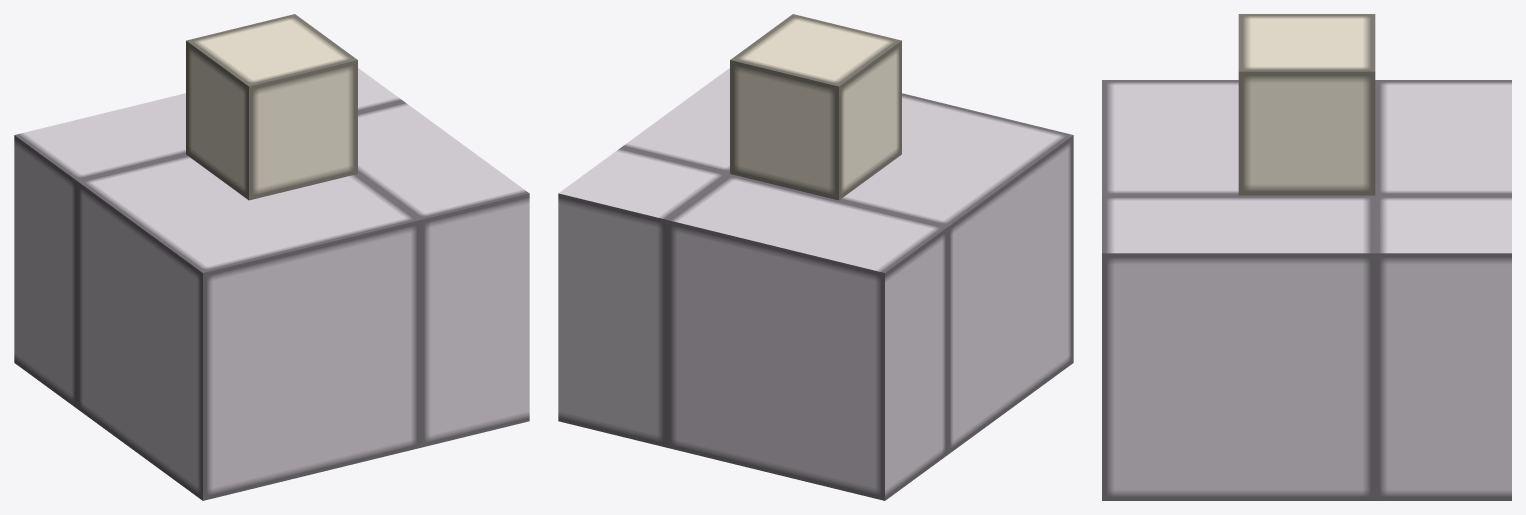
File: napkin_cup.glb
The picture shows the model from 3 angles, left to right: view 1: azimuth 30°, elevation 25°; view 2: azimuth 150°, elevation 25°; view 3: azimuth 270°, elevation 25°; orthographic projection. The views are drawn at different scales.
Visible parts, largest first — view 1: napkin_cup; view 2: napkin_cup; view 3: napkin_cup.
Boxes of the visible parts, bbox=[...] form: napkin_cup: bbox=[14, 14, 529, 500]; napkin_cup: bbox=[558, 14, 1073, 500]; napkin_cup: bbox=[1102, 14, 1511, 500].
Size of the model in its own units: 0.15 by 0.15 by 0.15.
Materials: 2 (2 with a texture image).
